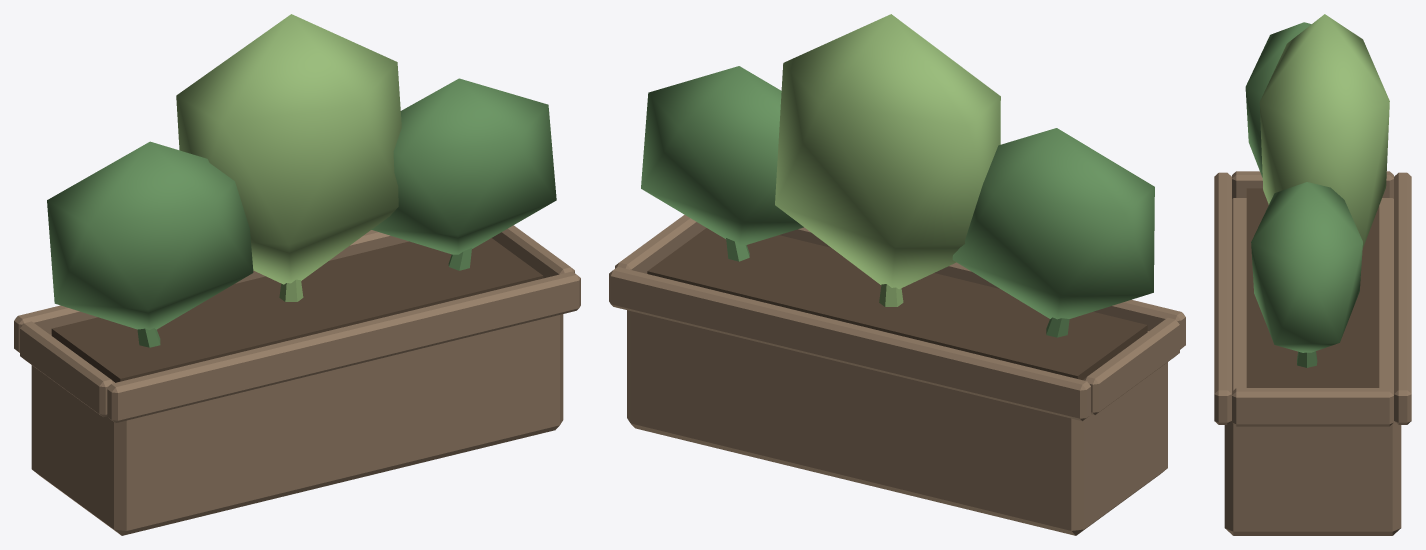
File: xingfuli-water-edge-slim-planter-visible-low.glb
3 renders of one model, left to right at view 1: azimuth 30°, elevation 25°; view 2: azimuth 150°, elevation 25°; view 3: azimuth 270°, elevation 25°, orthographic. The views are drawn at different scales.
Visible parts, largest first — view 1: xingfuli-water-edge-slim-planter-planter-metal, xingfuli-water-edge-slim-planter-foliage-dark, xingfuli-water-edge-slim-planter-foliage-light, xingfuli-water-edge-slim-planter-soil; view 2: xingfuli-water-edge-slim-planter-planter-metal, xingfuli-water-edge-slim-planter-foliage-dark, xingfuli-water-edge-slim-planter-foliage-light, xingfuli-water-edge-slim-planter-soil; view 3: xingfuli-water-edge-slim-planter-planter-metal, xingfuli-water-edge-slim-planter-foliage-light, xingfuli-water-edge-slim-planter-foliage-dark, xingfuli-water-edge-slim-planter-soil.
Part boxes in pixels (<box>): xingfuli-water-edge-slim-planter-planter-metal: <box>14,225,580,535</box>; xingfuli-water-edge-slim-planter-foliage-dark: <box>47,78,556,347</box>; xingfuli-water-edge-slim-planter-foliage-light: <box>176,14,401,301</box>; xingfuli-water-edge-slim-planter-soil: <box>51,238,543,382</box>; xingfuli-water-edge-slim-planter-planter-metal: <box>609,215,1185,535</box>; xingfuli-water-edge-slim-planter-foliage-dark: <box>641,66,1154,337</box>; xingfuli-water-edge-slim-planter-foliage-light: <box>775,14,1000,306</box>; xingfuli-water-edge-slim-planter-soil: <box>647,228,1147,380</box>; xingfuli-water-edge-slim-planter-planter-metal: <box>1214,171,1411,535</box>; xingfuli-water-edge-slim-planter-foliage-light: <box>1259,14,1389,248</box>; xingfuli-water-edge-slim-planter-foliage-dark: <box>1245,22,1362,367</box>; xingfuli-water-edge-slim-planter-soil: <box>1246,188,1379,387</box>.
Bounding box in the file's own units: 0.3749 × 0.3142 × 0.134.
